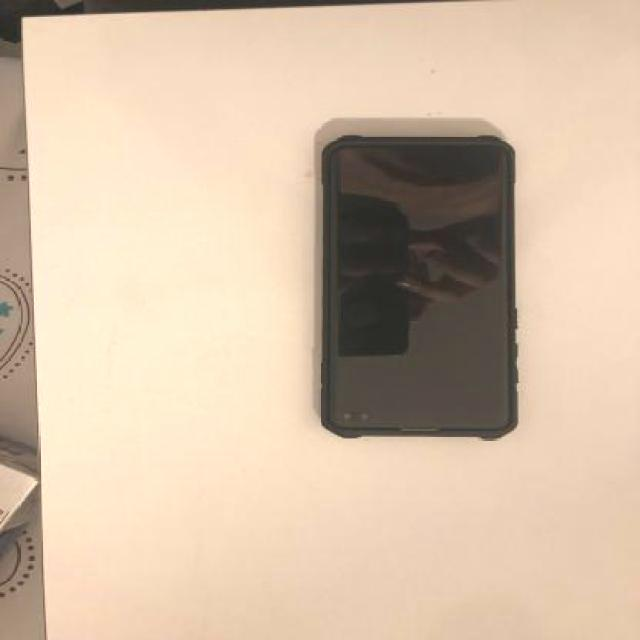phone: (316, 132, 518, 440)
